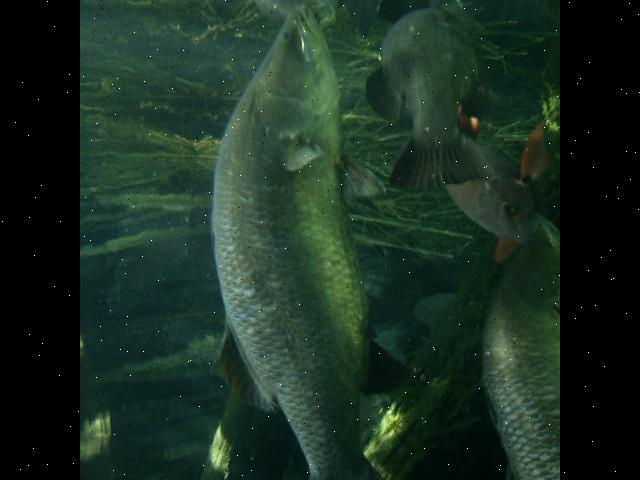Mulut: (268, 0, 340, 69)
Sirip Anal: (346, 317, 422, 405)
Sirip Dada: (269, 126, 337, 183)
Sirip Ekor: (384, 118, 510, 198), (272, 429, 445, 480)
Sirip Perut: (328, 141, 394, 217)
Sirip Punggung: (189, 312, 295, 416), (354, 56, 414, 126)
